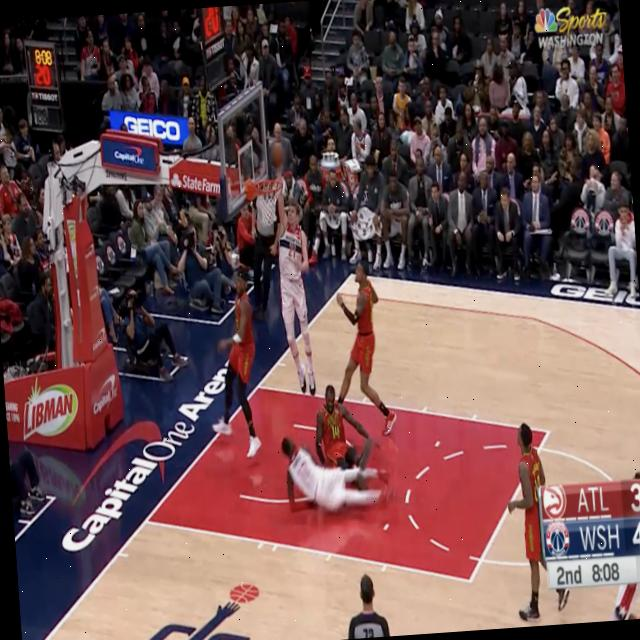foul: (262, 252, 416, 542)
